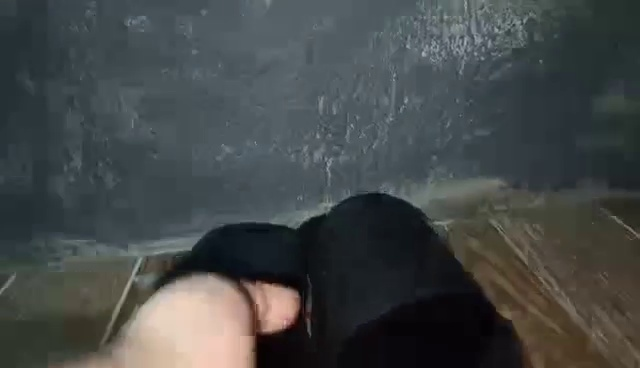slipper: (305, 193, 525, 368)
